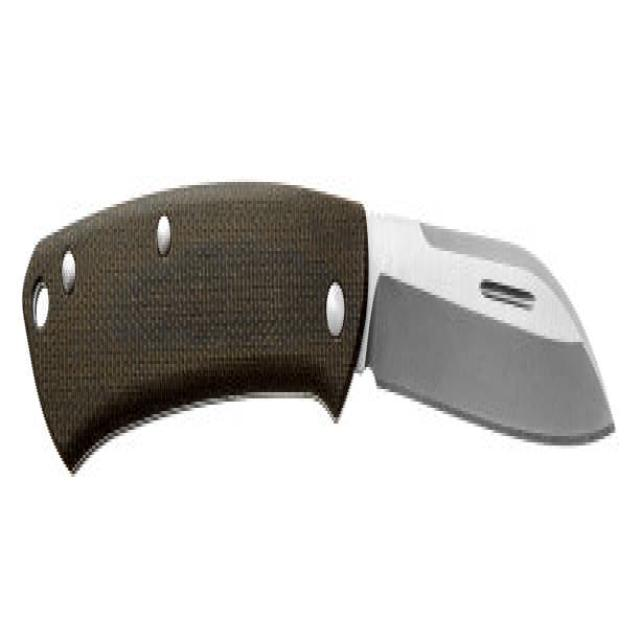knife: (20, 181, 620, 489)
